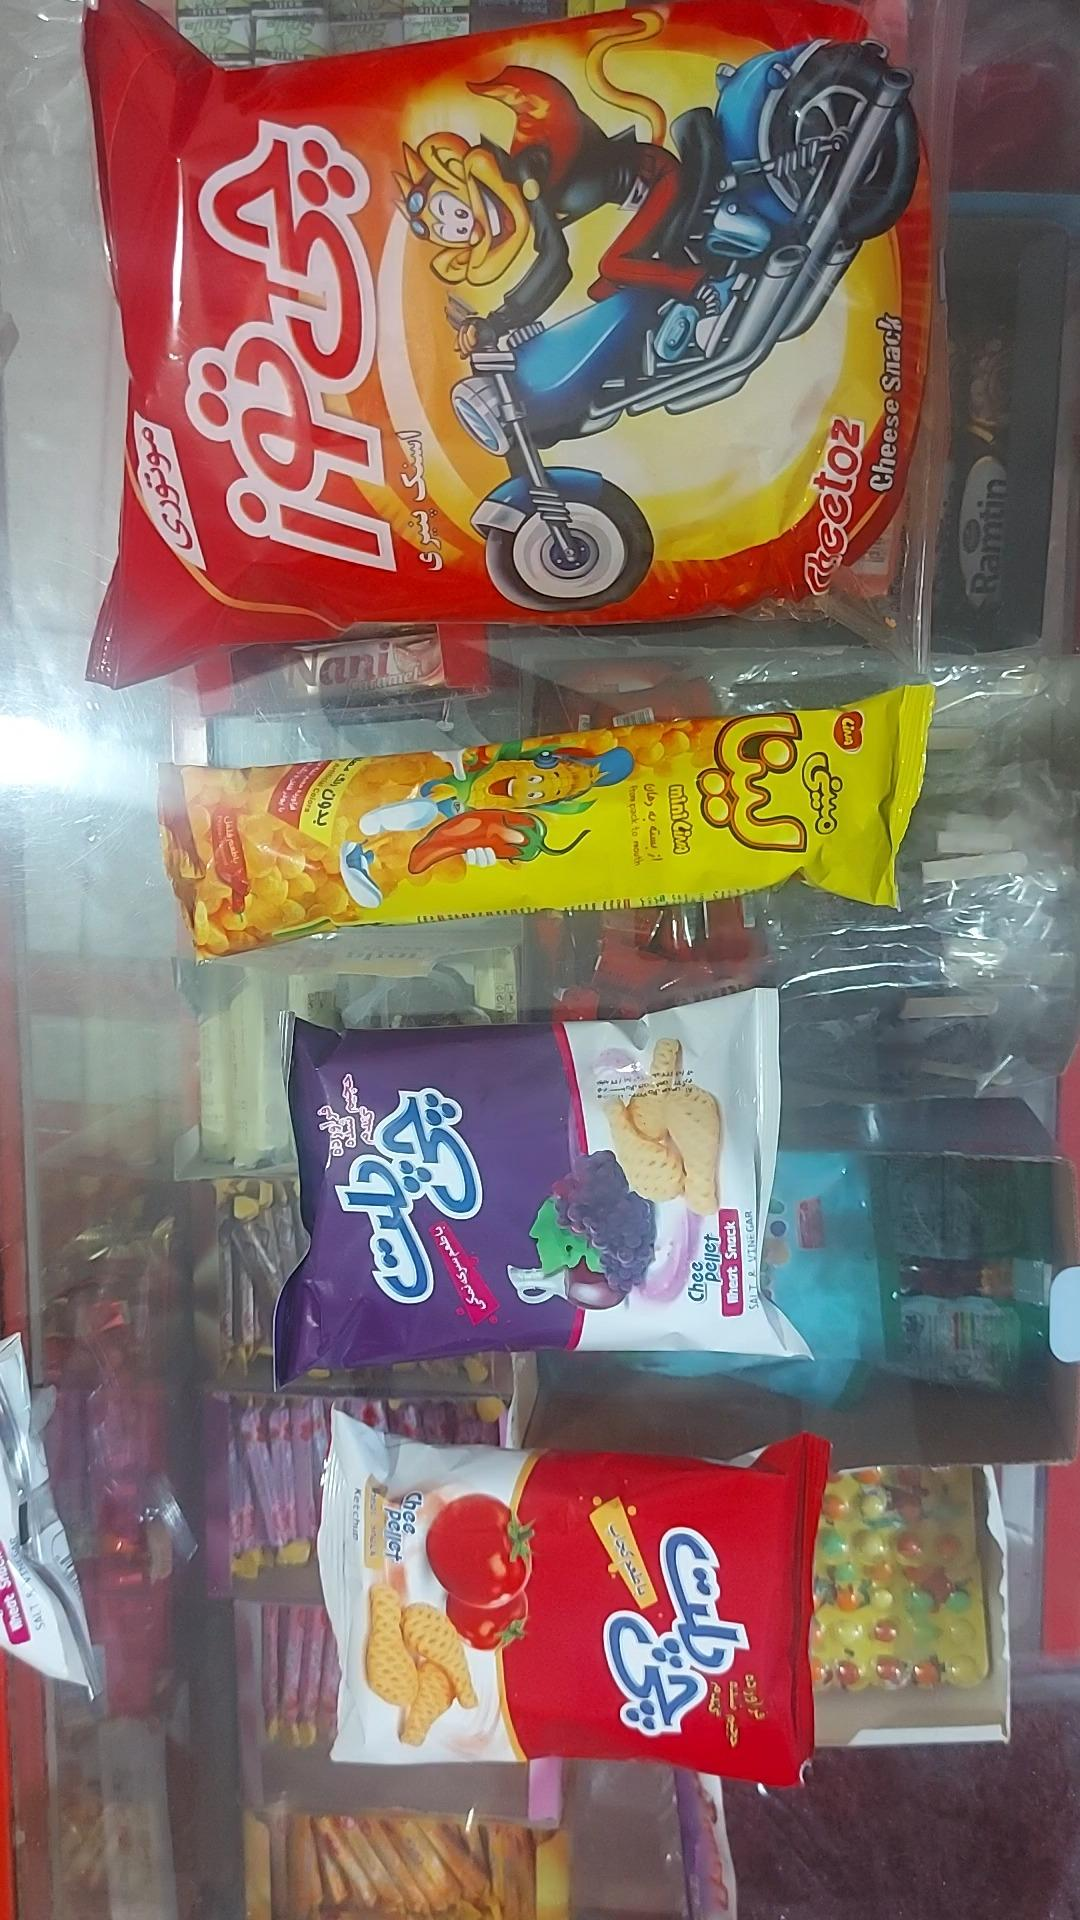Chee pellet ketchup: (316, 1410, 832, 1789)
Chee pellet vinegar: (273, 989, 811, 1389)
Cheetoz snack 90g: (80, 0, 969, 691)
Mini Lina: (154, 684, 936, 964)
